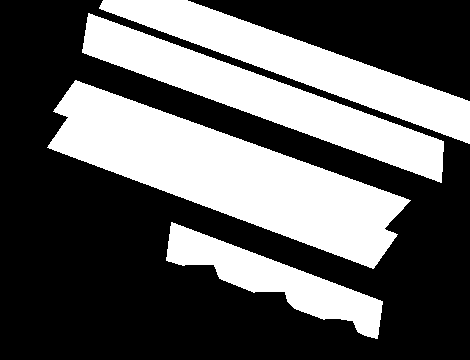parkingspot: (82, 13, 443, 182), (53, 80, 410, 231), (47, 115, 397, 268), (99, 0, 470, 143), (166, 222, 382, 338)
